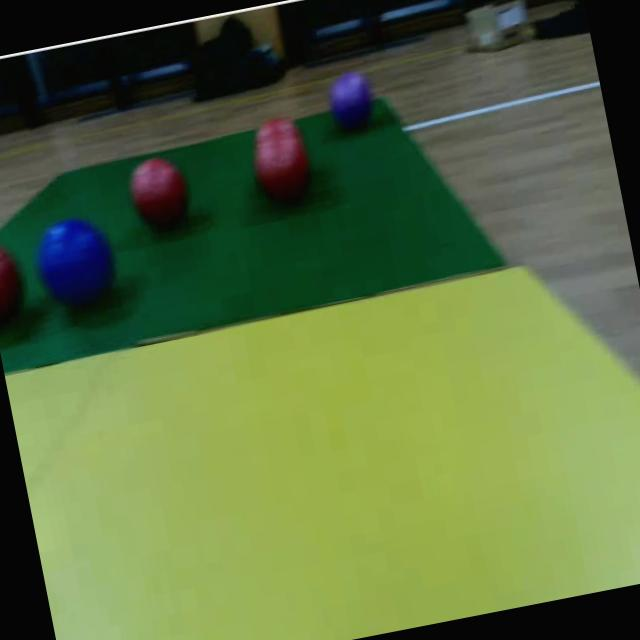blue_ball: (29, 206, 128, 322)
purple_ball: (322, 69, 381, 139)
red_ball: (240, 111, 320, 216), (125, 150, 201, 240), (0, 235, 39, 341)
